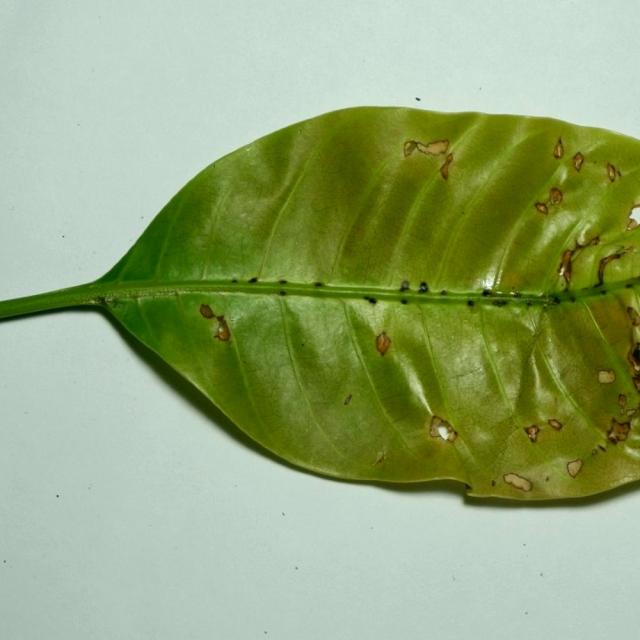Anthracnose: (555, 234, 597, 291), (187, 304, 234, 350), (403, 138, 452, 180), (623, 319, 640, 387), (426, 414, 459, 446), (368, 315, 393, 356), (525, 418, 564, 443), (535, 187, 562, 215), (606, 416, 631, 443), (502, 472, 533, 492), (396, 280, 434, 296), (590, 439, 613, 456), (566, 458, 584, 478), (576, 233, 598, 249), (626, 203, 640, 227), (597, 369, 616, 384), (572, 151, 585, 172), (199, 303, 216, 319), (504, 272, 520, 288), (403, 141, 417, 158), (626, 306, 639, 324), (553, 139, 564, 160), (373, 451, 386, 465), (620, 244, 636, 255), (607, 163, 616, 182), (102, 296, 116, 307), (399, 280, 410, 292), (617, 394, 626, 408), (558, 277, 567, 291), (490, 300, 508, 307), (558, 265, 567, 278), (343, 394, 352, 405), (368, 297, 377, 305), (481, 289, 490, 297), (551, 296, 560, 304), (512, 292, 523, 298), (467, 300, 475, 308), (313, 281, 323, 287), (248, 277, 258, 283), (591, 448, 598, 456), (278, 290, 287, 296), (278, 279, 287, 285), (401, 298, 408, 305), (626, 283, 634, 289), (525, 301, 533, 307), (491, 480, 496, 487), (545, 476, 550, 482), (231, 279, 238, 283), (415, 97, 421, 101)
Mango: (0, 108, 639, 510)
